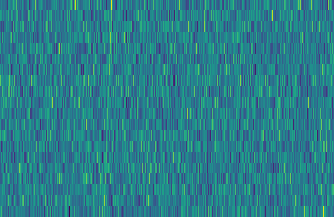signal: (97, 0, 114, 217)
